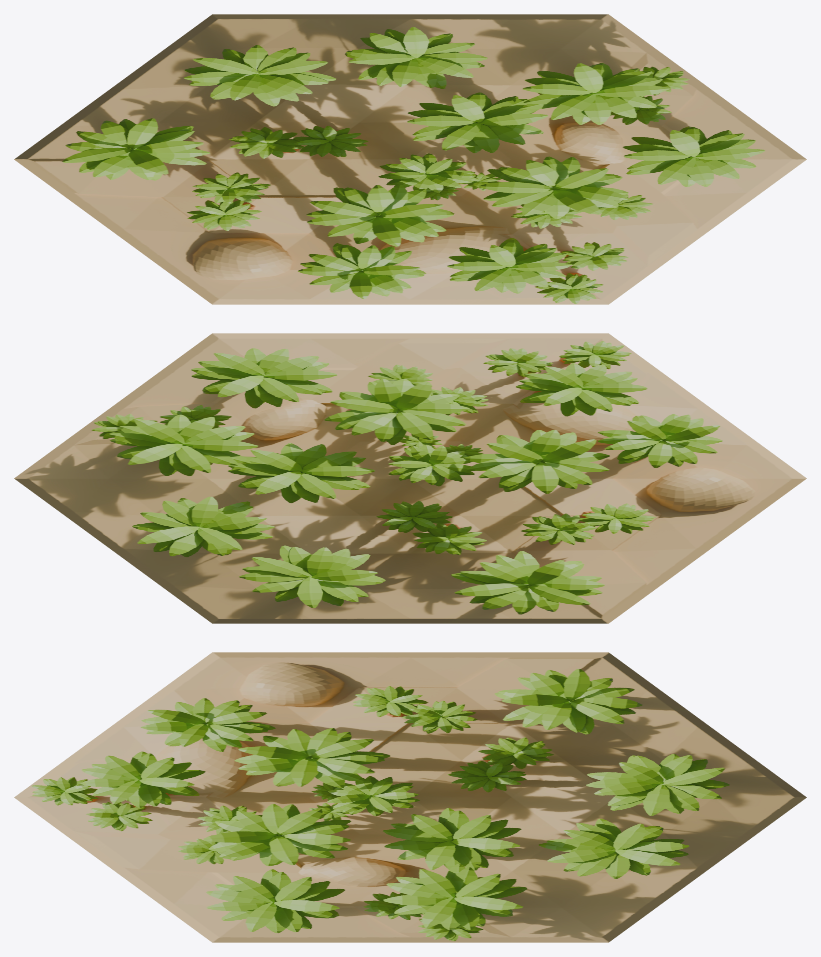
File: beach.glb
3 views of the same model, one above another, from view 1: azimuth 30°, elevation 25°; view 2: azimuth 150°, elevation 25°; view 3: azimuth 270°, elevation 25° (orthographic).
Visible parts, largest first — view 1: Deciduousforest_flat; view 2: Deciduousforest_flat; view 3: Deciduousforest_flat.
Boxes of the visible parts, x1=… form: Deciduousforest_flat: x1=14, y1=14, x2=806, y2=304; Deciduousforest_flat: x1=14, y1=333, x2=806, y2=623; Deciduousforest_flat: x1=14, y1=652, x2=806, y2=942.
Bounding box in the file's own units: 1.73 × 4.47e-08 × 2.
Materials: 1 (1 with a texture image).
